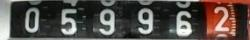digits: (60, 8, 77, 35), (98, 9, 115, 34), (176, 10, 192, 36), (213, 6, 229, 31), (24, 7, 40, 32), (137, 8, 153, 33)
